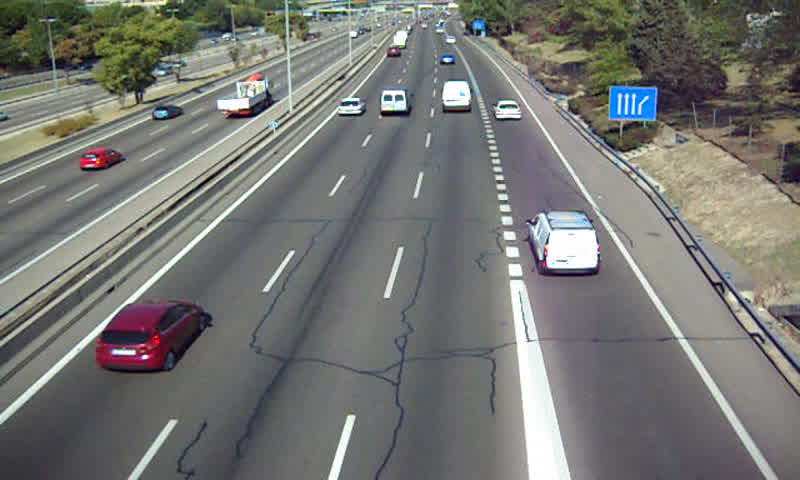car: (95, 300, 204, 372), (336, 97, 366, 119), (492, 99, 521, 120)
van: (526, 211, 603, 276), (442, 82, 473, 113), (381, 88, 414, 115)
